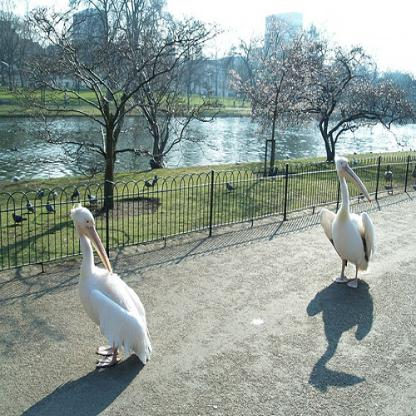bird: (72, 206, 152, 370), (320, 158, 374, 288), (384, 162, 392, 187), (69, 183, 80, 201), (12, 211, 26, 224), (44, 197, 55, 212), (85, 192, 97, 204), (25, 199, 34, 214), (35, 188, 45, 198), (48, 188, 58, 198), (142, 178, 151, 188), (226, 181, 235, 191), (152, 173, 158, 186)
